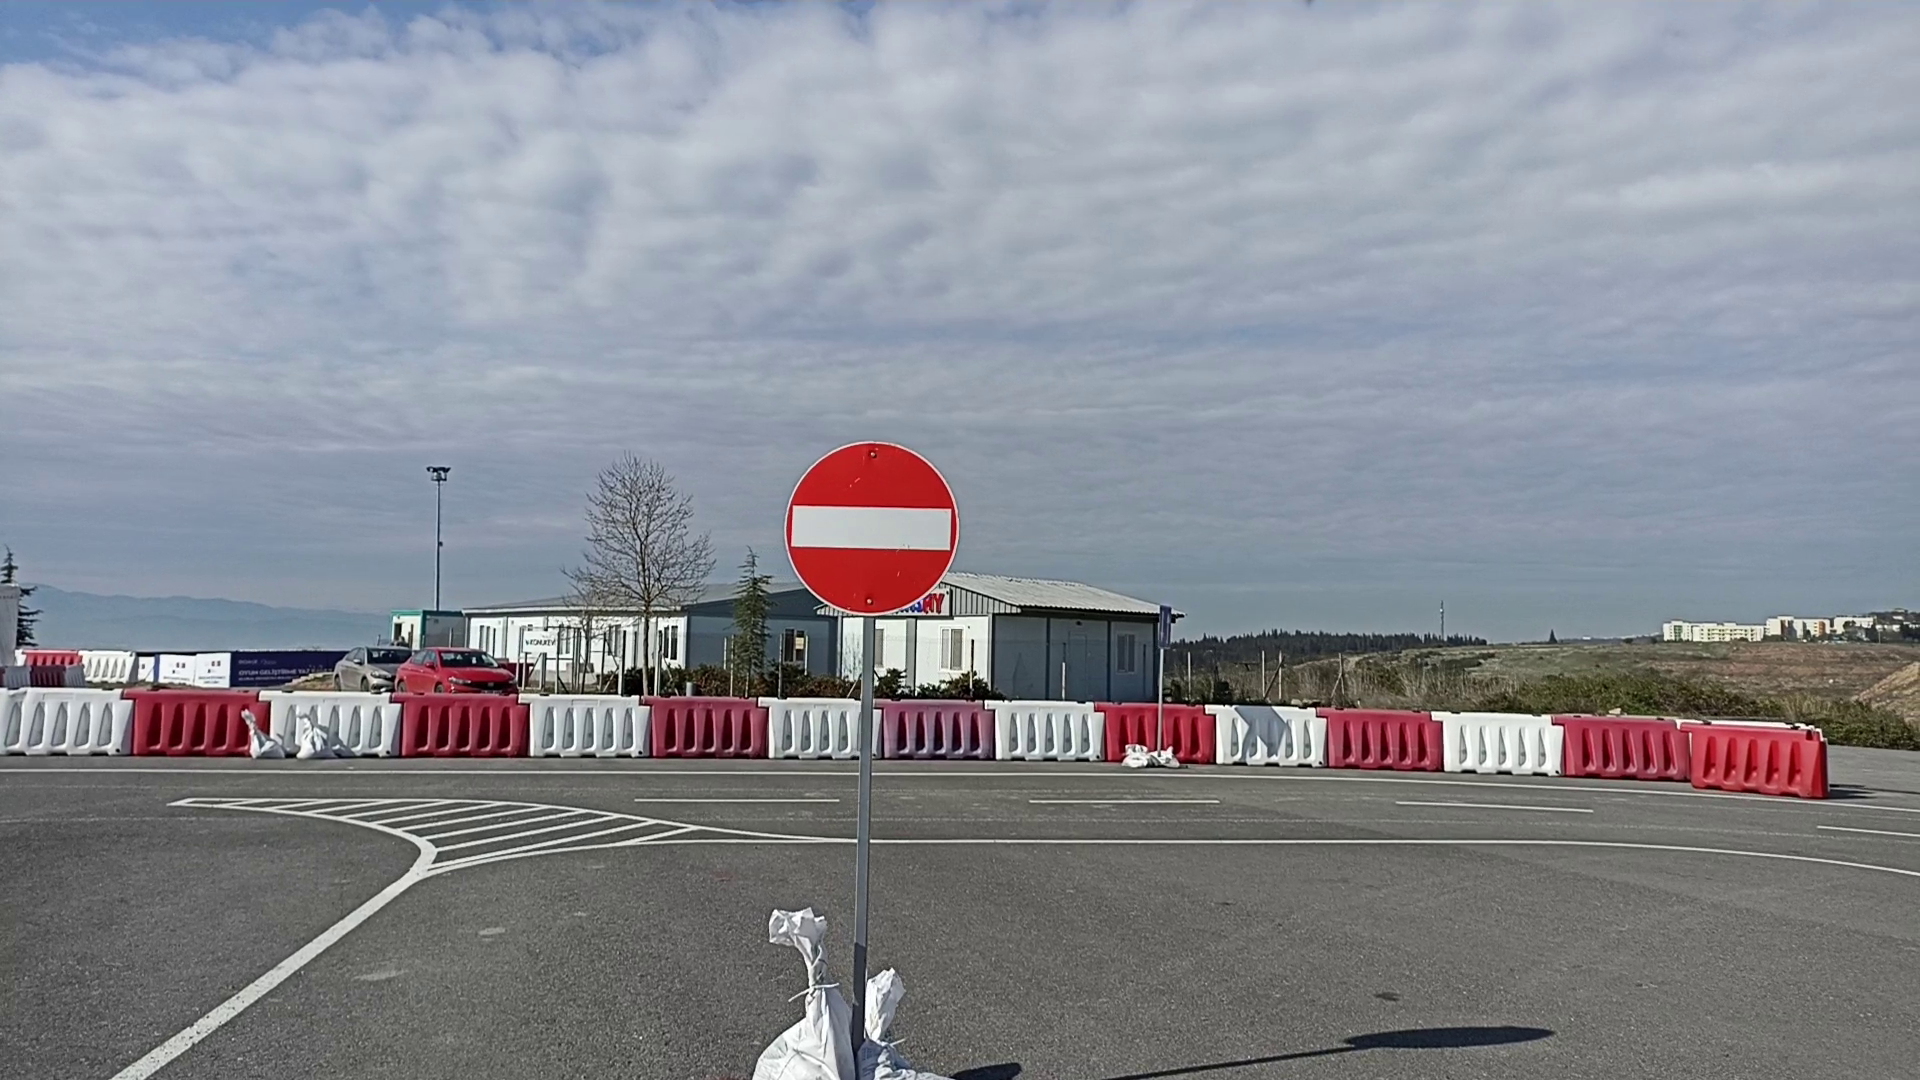noentryway: (781, 436, 963, 616)
